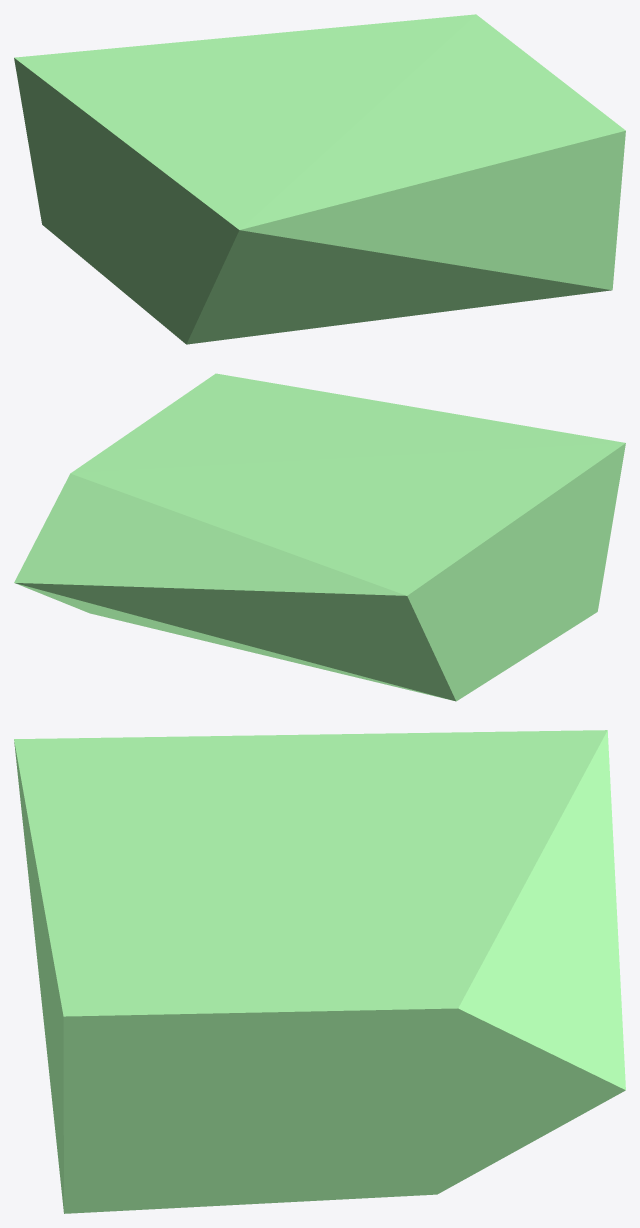
Rendered from UMIRobot_UMIRobot_link_5_convex_coll_69.dae.
The picture shows the model from 3 angles, top to bottom: view 1: azimuth 30°, elevation 25°; view 2: azimuth 150°, elevation 25°; view 3: azimuth 270°, elevation 25°; orthographic projection. The views are drawn at different scales.
Parts seen in each view (by area): view 1: node; view 2: node; view 3: node.
Boxes of the visible parts, x1,y1,x2,y2 form: node: (14,14,625,344); node: (14,373,625,701); node: (14,730,625,1213).
Size of the model in its own units: 0.00309 by 0.00125 by 0.00299.
